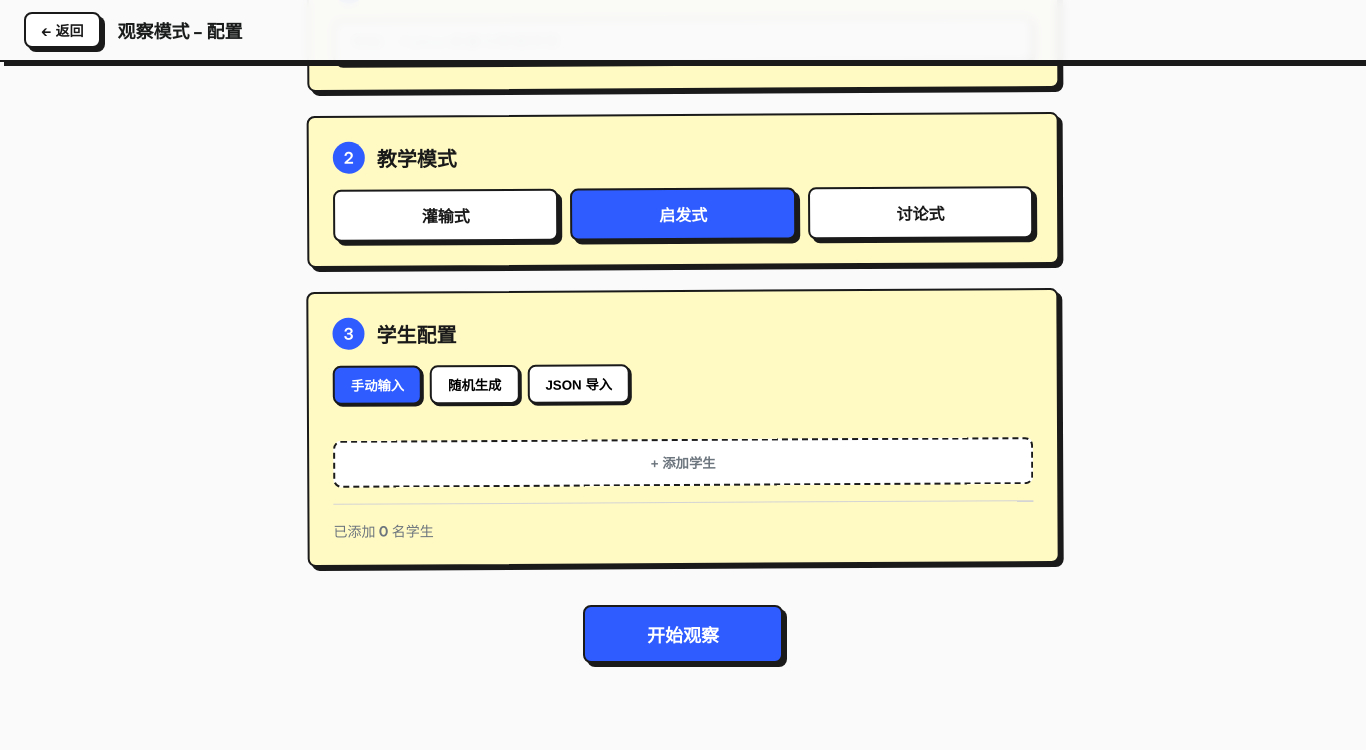
Scenario: ObservationConfig › Tab switching › switches between all three tabs
(page scrolled)
Expected: the button "+ 添加学生" is shown, [333,437,1033,488]
// Switch to random
Click the button "随机生成". click: (475, 385)
box: [430,365,520,404]
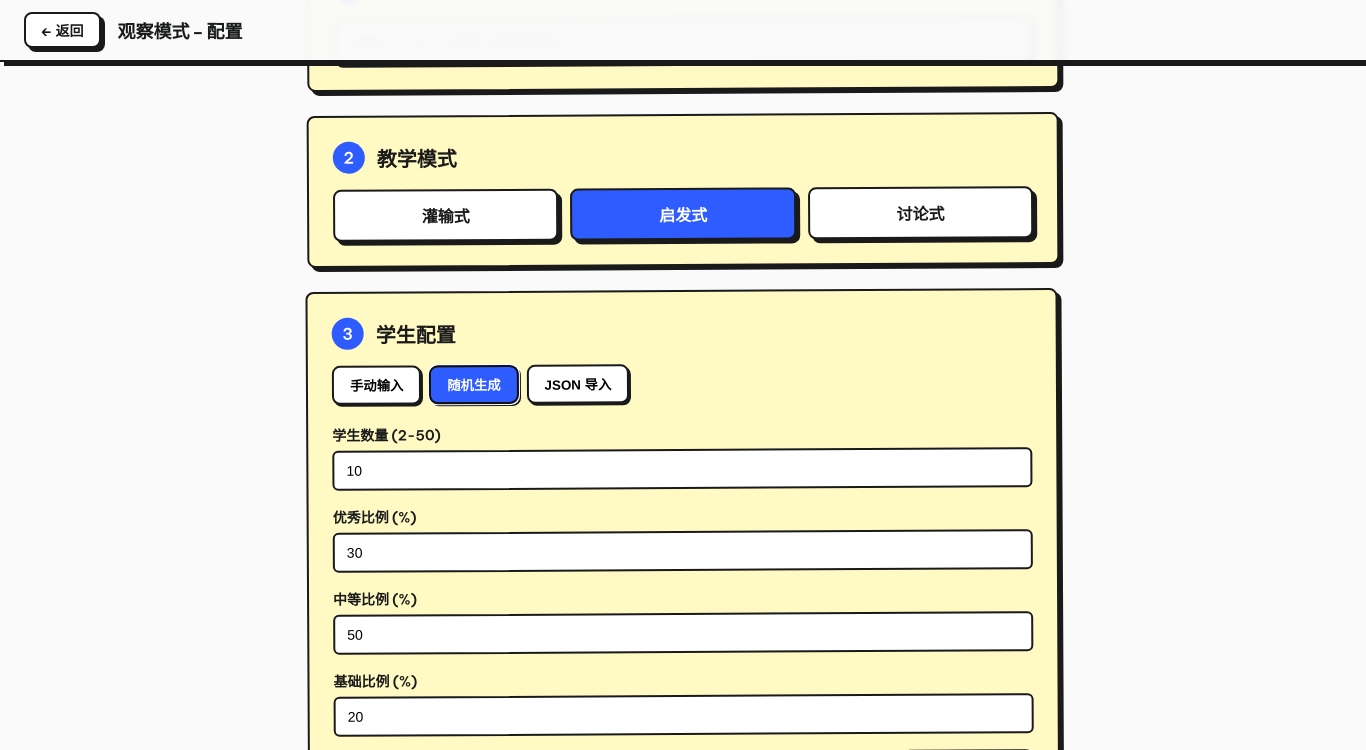
Expected: the button "+ 添加学生" is gone
// Switch to JSON
Click the button "JSON 导入". click: (578, 384)
box: [526,364,629,404]
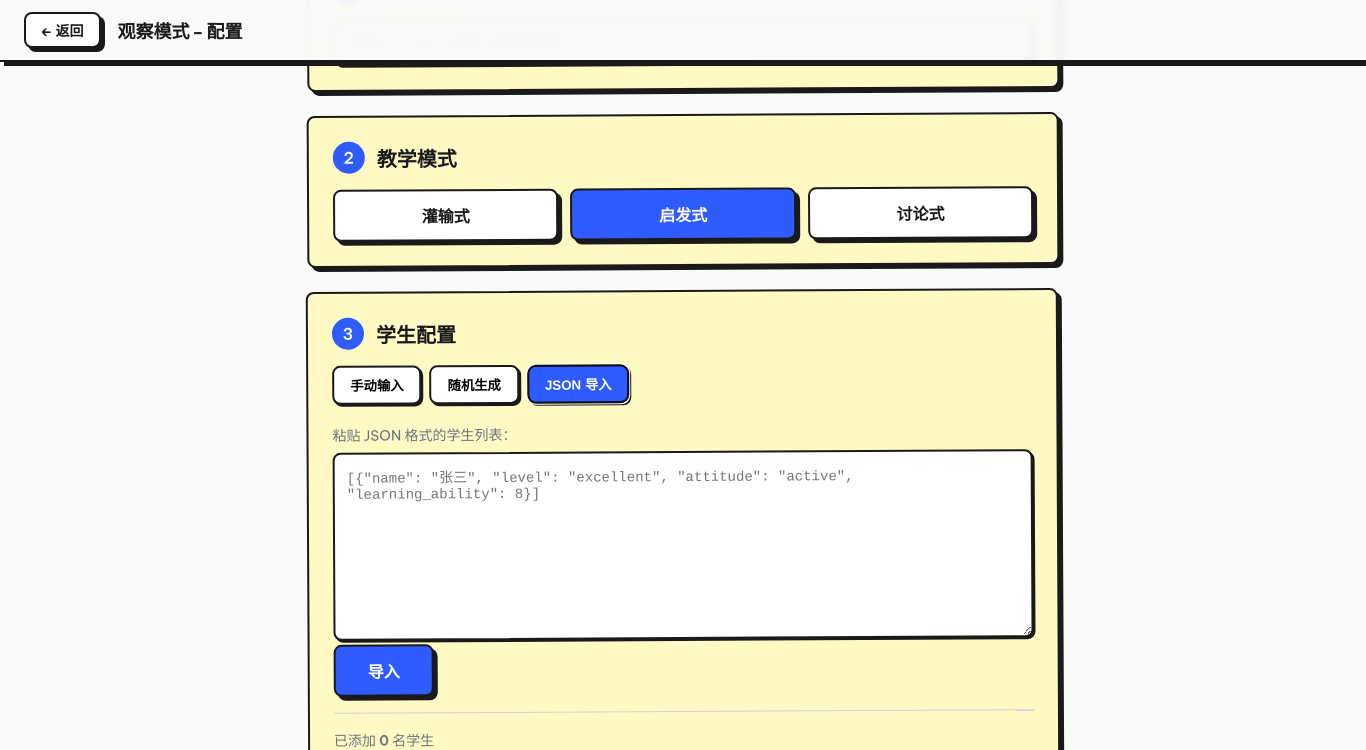
Expected: the button "导入" is shown, [334,644,434,697]
// Switch back to manual
Click the button "手动输入". click: (377, 385)
box: [332,366,422,405]
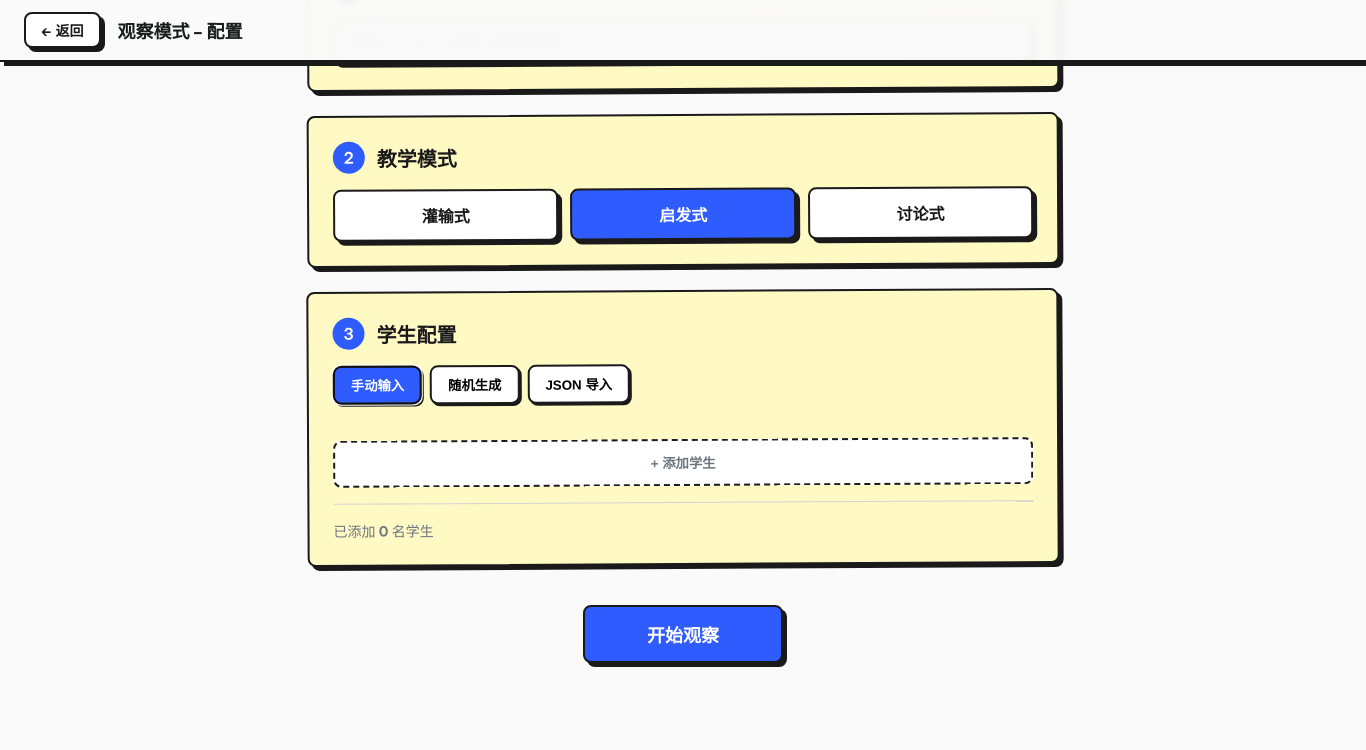
Expected: the button "+ 添加学生" is shown, [333,437,1033,488]
